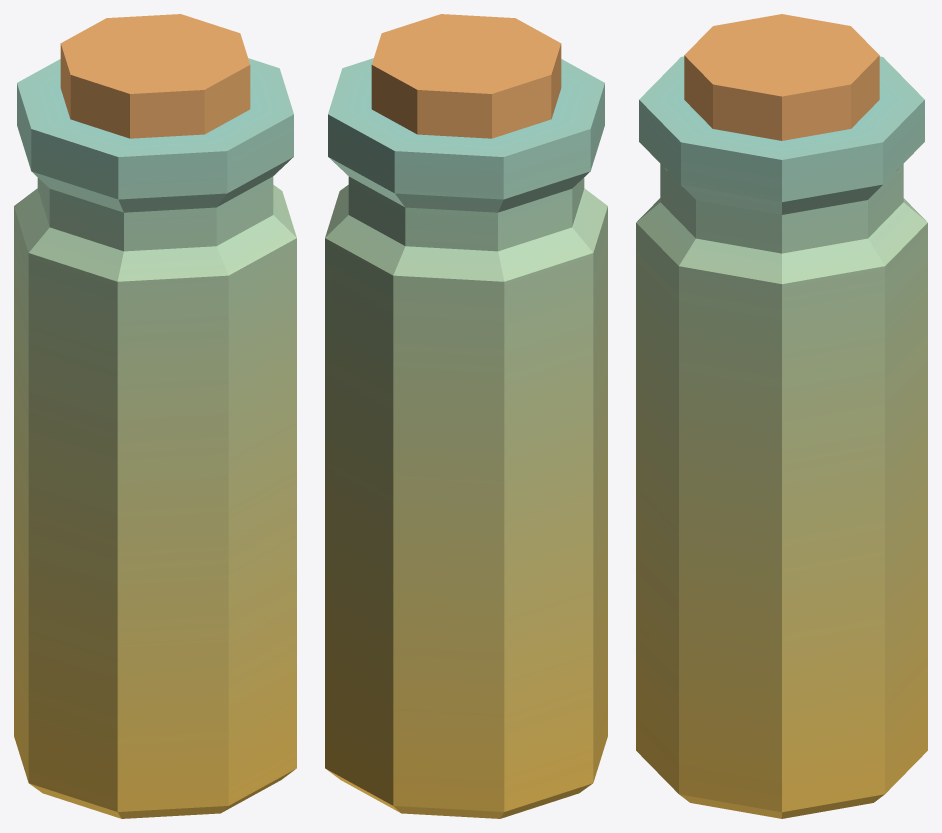
Rendered from VialSmall.fbx.
3 views of the same model, side by side, from view 1: azimuth 30°, elevation 25°; view 2: azimuth 150°, elevation 25°; view 3: azimuth 270°, elevation 25° (orthographic).
Visible parts, largest first — view 1: VialSmall; view 2: VialSmall; view 3: VialSmall.
Part boxes in pixels (x1,y1,x2,y2): VialSmall: (14,14,296,818); VialSmall: (325,14,607,818); VialSmall: (636,14,927,818).
Size of the model in its own units: 5 by 13.4 by 5.
